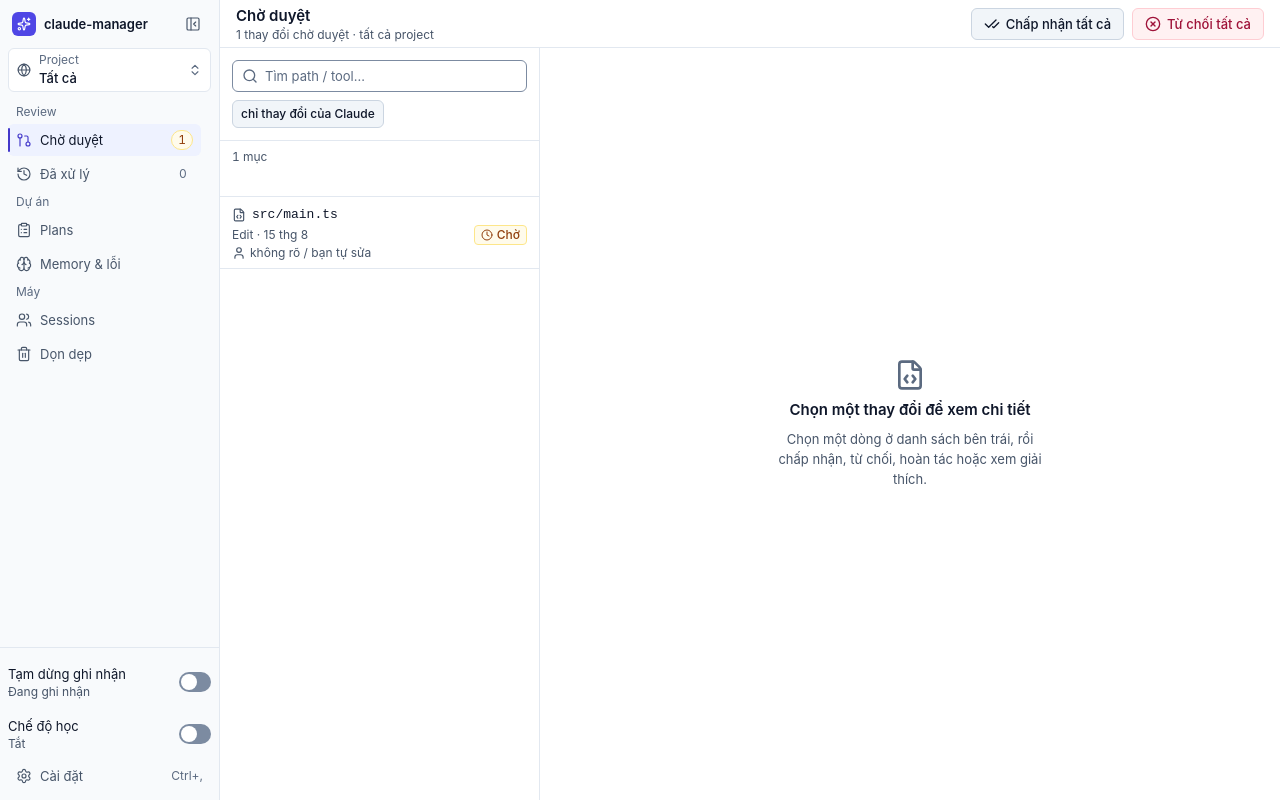
Test: App smoke — every screen mounts over a fake IPC transport › SMOKE §2: the lazy Plans screen mounts
The image size is (1280, 800).
Click the button "Plans".
click(104, 230)  # box x1=8 y1=214 x2=201 y2=246
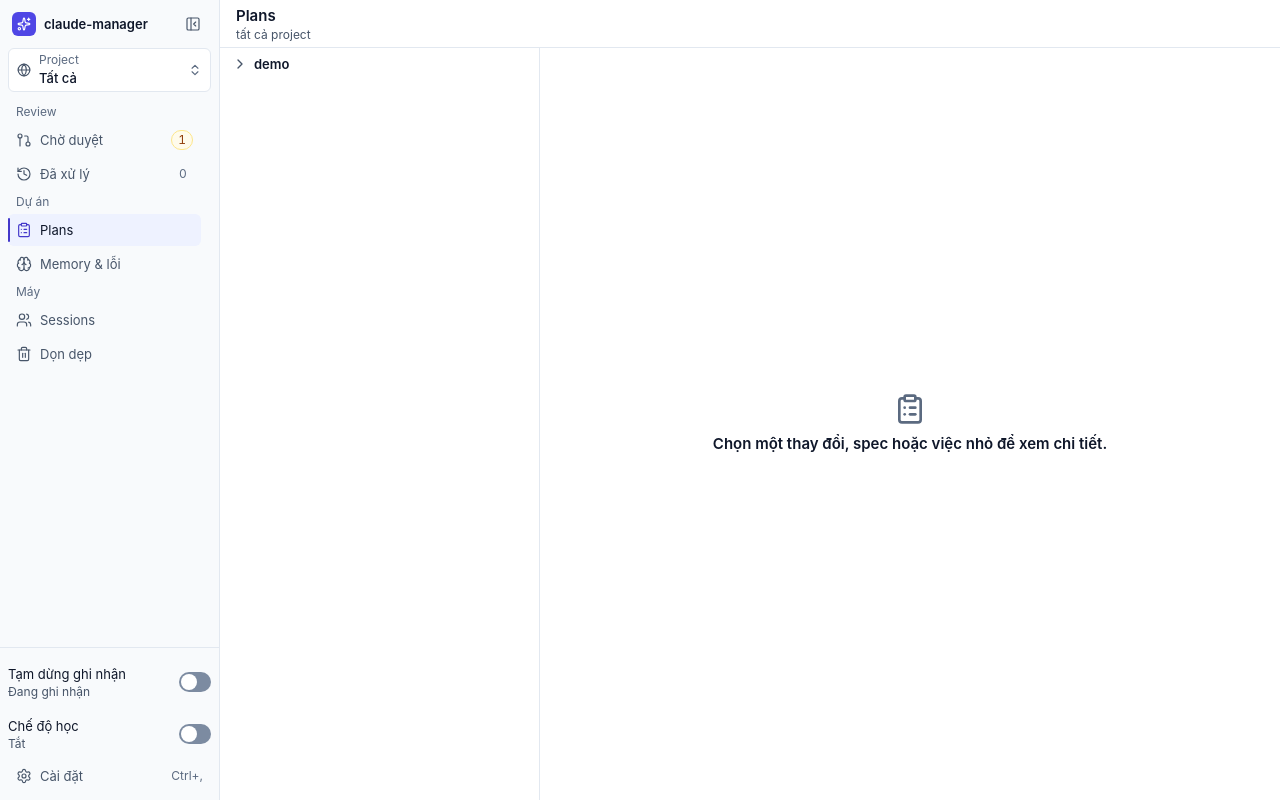
Expected: the text "Chọn một thay đổi, spec hoặc việc nhỏ để xem chi tiết." is shown, x1=713 y1=433 x2=1107 y2=455
